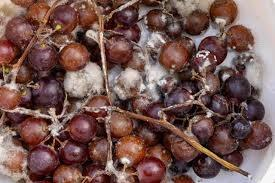Grape Rotten: (1, 1, 272, 182)
